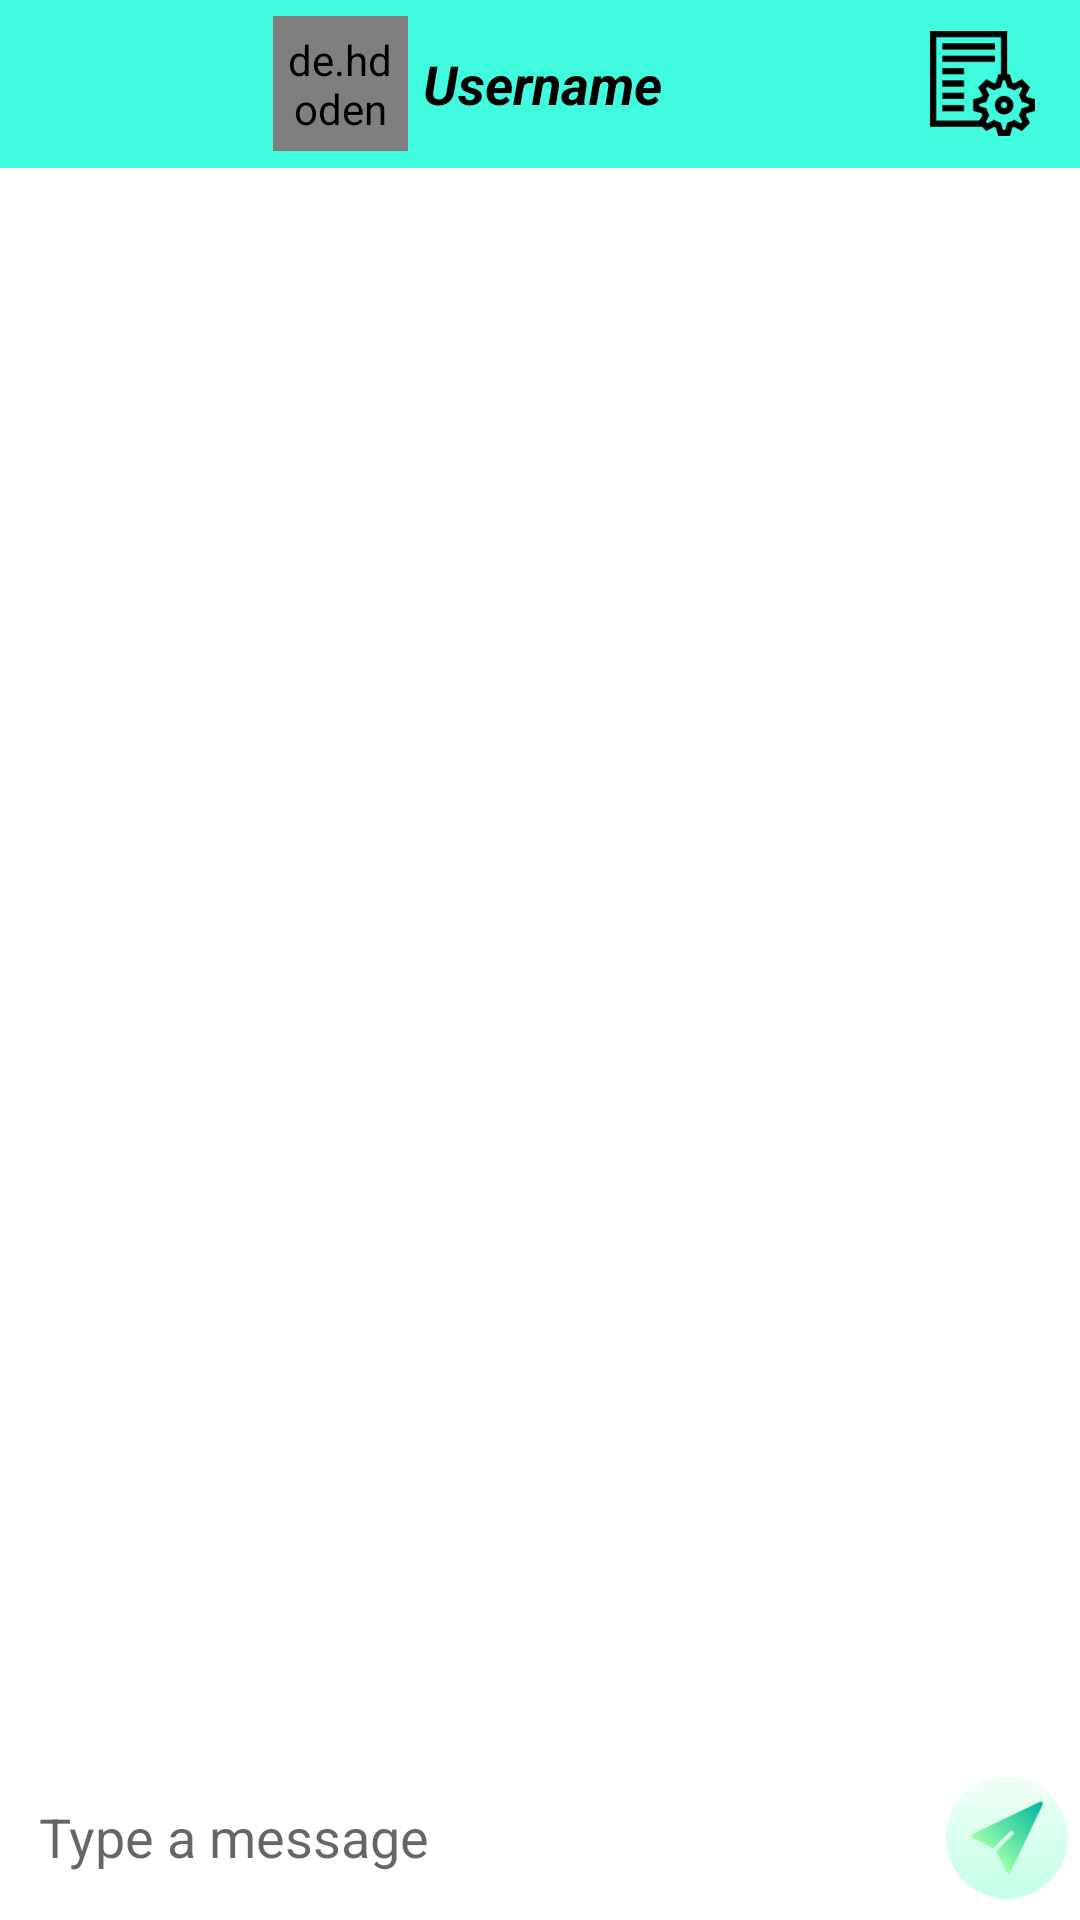

Locate icon controls on the screen. Image size 1080x1920, boxes as [x1=x1, y1=y1, x2=x2, y2=y2].
send: [x1=946, y1=1801, x2=1068, y2=1899]
settings: [x1=930, y1=31, x2=1035, y2=136]
